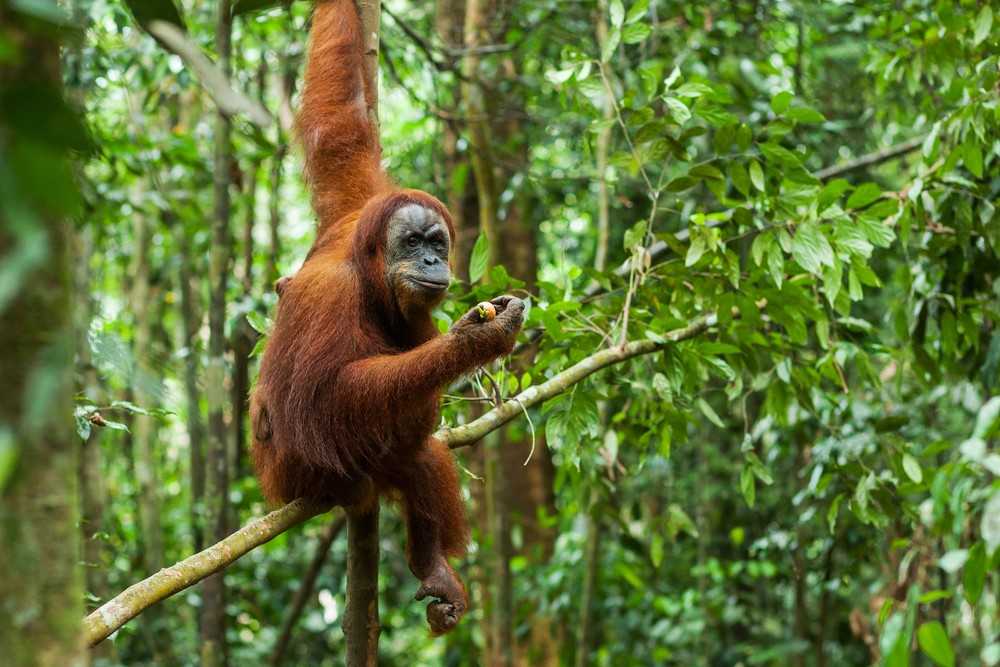Orangutan: (276, 161, 523, 574)
